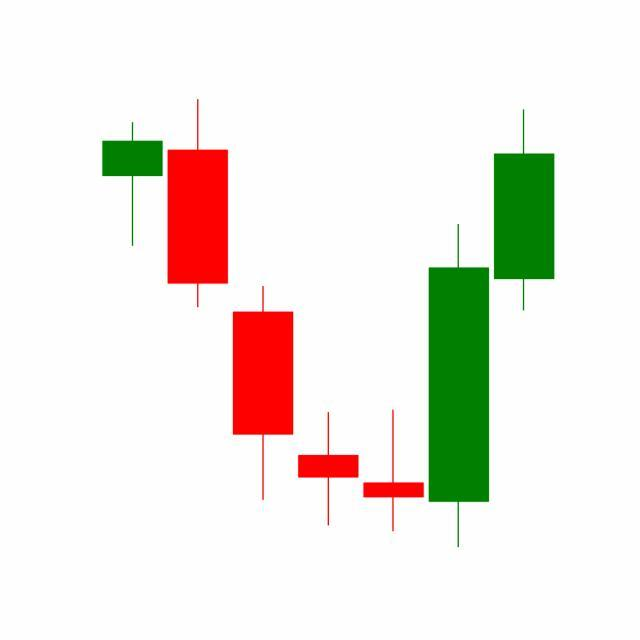Three Line Strike: (230, 220, 492, 548)
